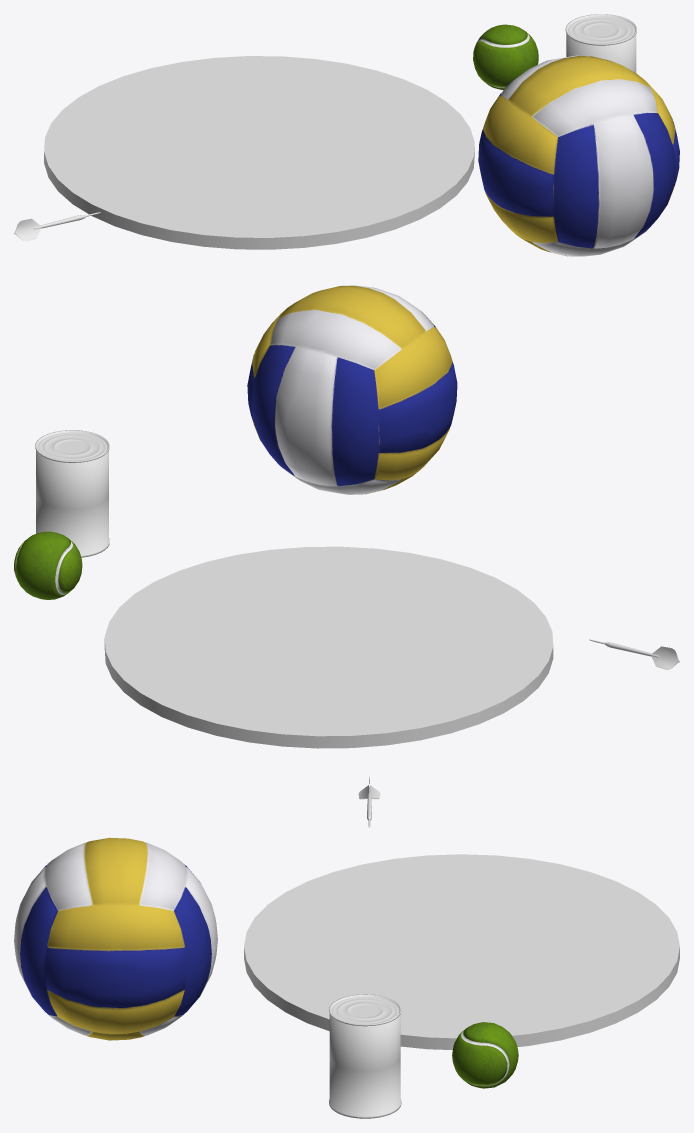
Rendered from minigames assets.fbx.
3 views of the same model, one above another, from view 1: azimuth 30°, elevation 25°; view 2: azimuth 150°, elevation 25°; view 3: azimuth 270°, elevation 25° (orthographic). The views are drawn at different scales.
Parts seen in each view (by area): view 1: Dartscheibe, Volleyball, Tennisball, Dose, Dartpfeil; view 2: Dartscheibe, Volleyball, Dose, Tennisball, Dartpfeil; view 3: Dartscheibe, Volleyball, Dose, Tennisball.
Boxes of the visible parts, x1,y1,x2,y2 form: Dartscheibe: [44, 56, 474, 249]; Volleyball: [478, 55, 679, 256]; Tennisball: [473, 24, 538, 89]; Dose: [565, 14, 636, 72]; Dartpfeil: [14, 212, 100, 241]; Dartscheibe: [104, 546, 553, 748]; Volleyball: [247, 285, 457, 494]; Dose: [35, 430, 109, 557]; Tennisball: [14, 531, 82, 599]; Dartpfeil: [589, 639, 679, 669]; Dartscheibe: [244, 854, 679, 1049]; Volleyball: [14, 837, 217, 1040]; Dose: [329, 994, 401, 1118]; Tennisball: [452, 1022, 518, 1088].
Size of the model in its own units: 73.99 by 21.01 by 68.58.
Materials: 7 (2 with a texture image).
